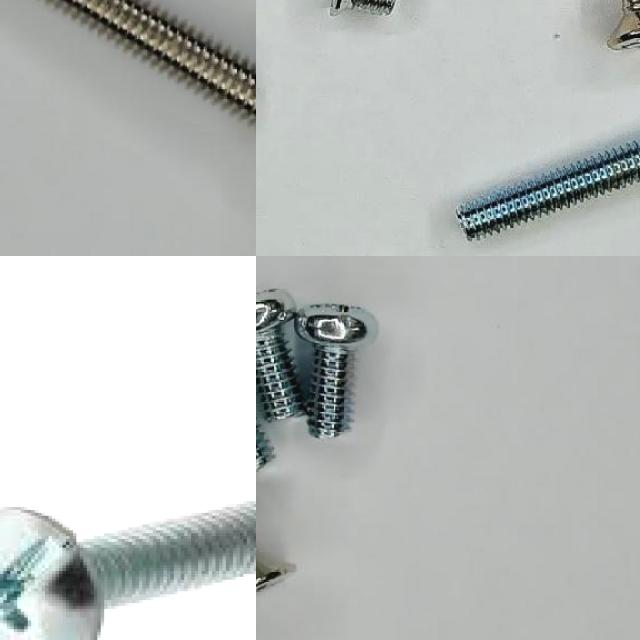Screw: (0, 500, 256, 640), (61, 0, 256, 118), (457, 141, 640, 241), (295, 304, 377, 438), (256, 290, 305, 422), (329, 0, 397, 15)
